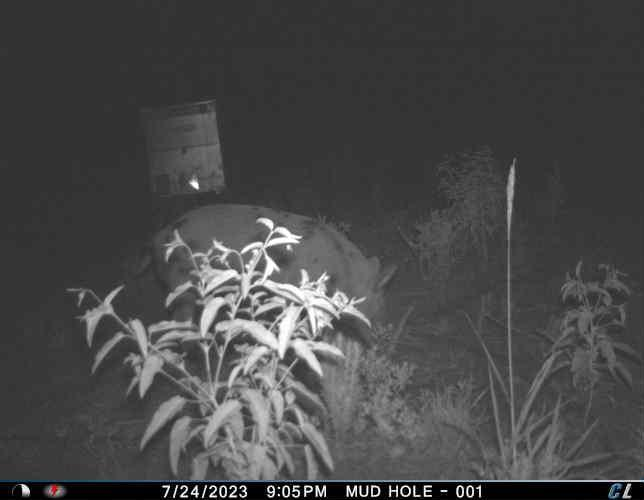Hog: (149, 200, 395, 335)
